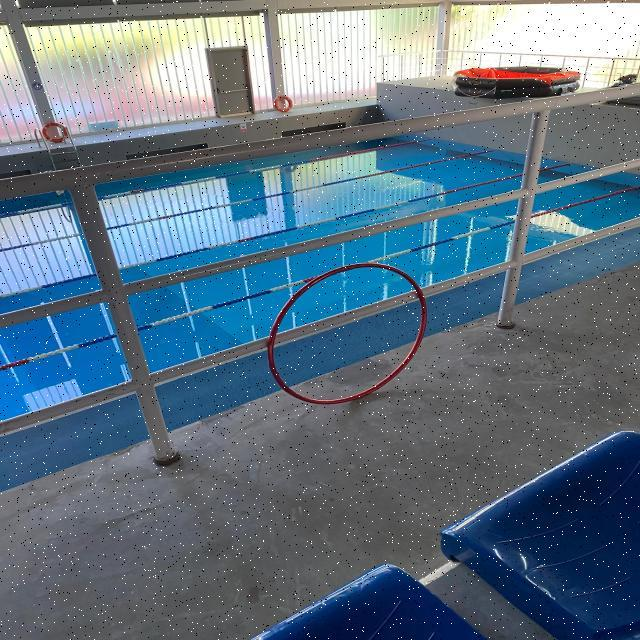Circle: (264, 260, 428, 404)
